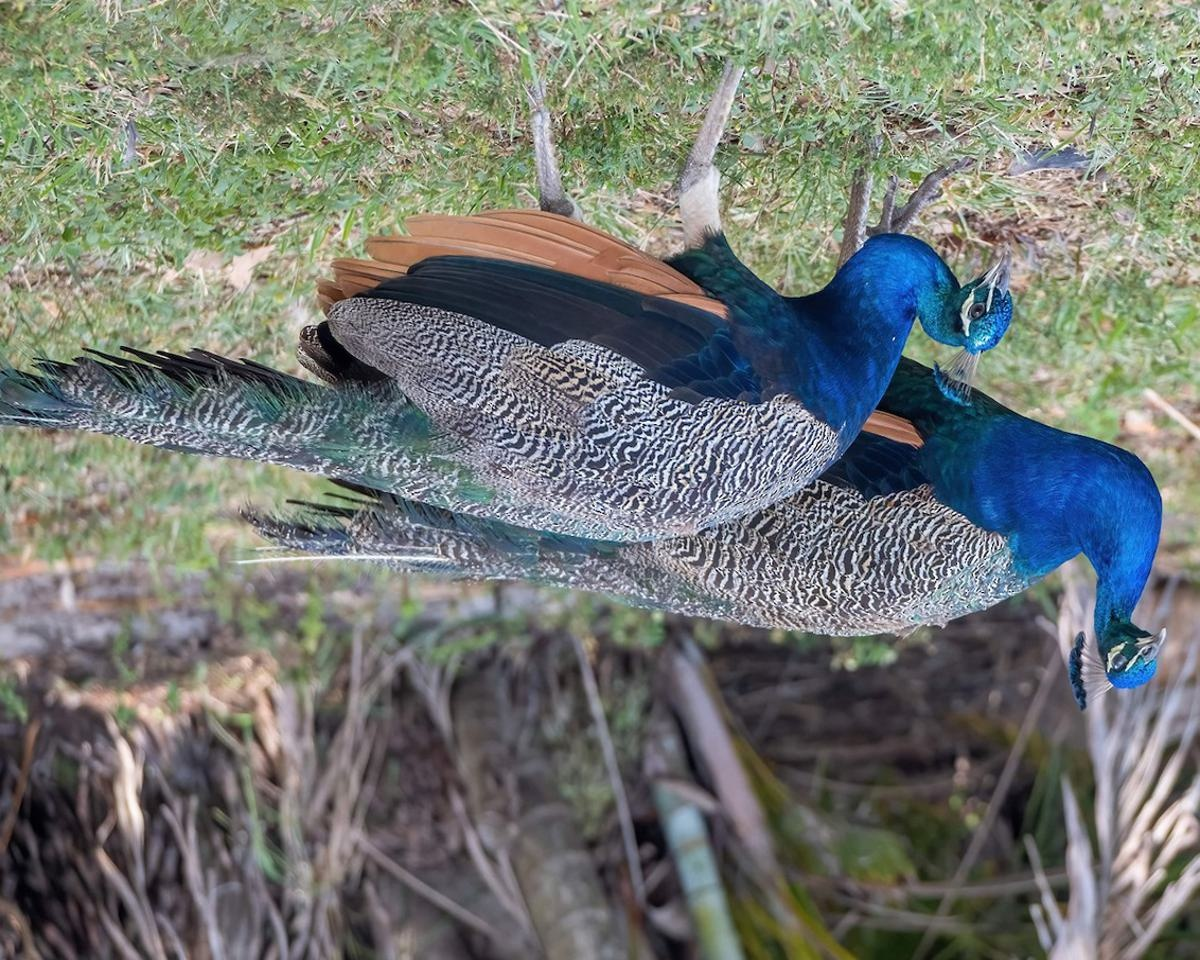peacock: (847, 378, 1177, 719)
